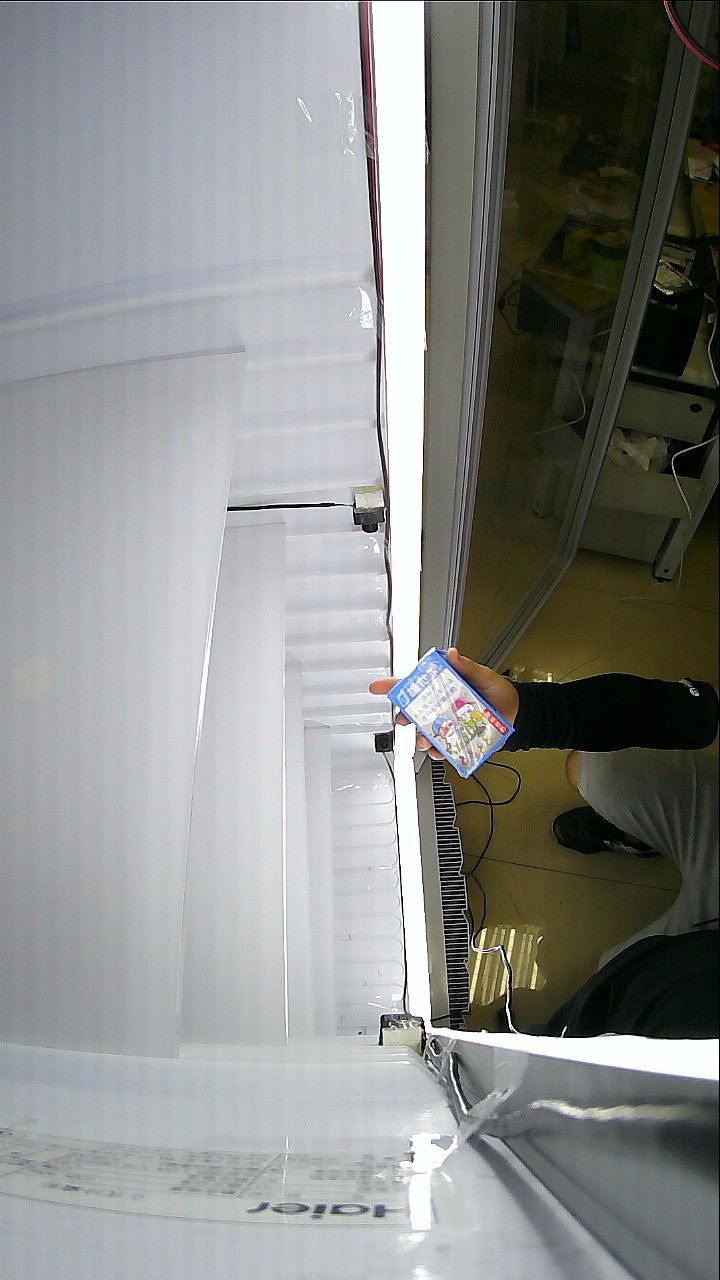VitaSoyOriginal: (374, 652, 532, 779)
